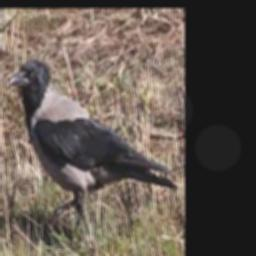Crow: (9, 58, 176, 233)
